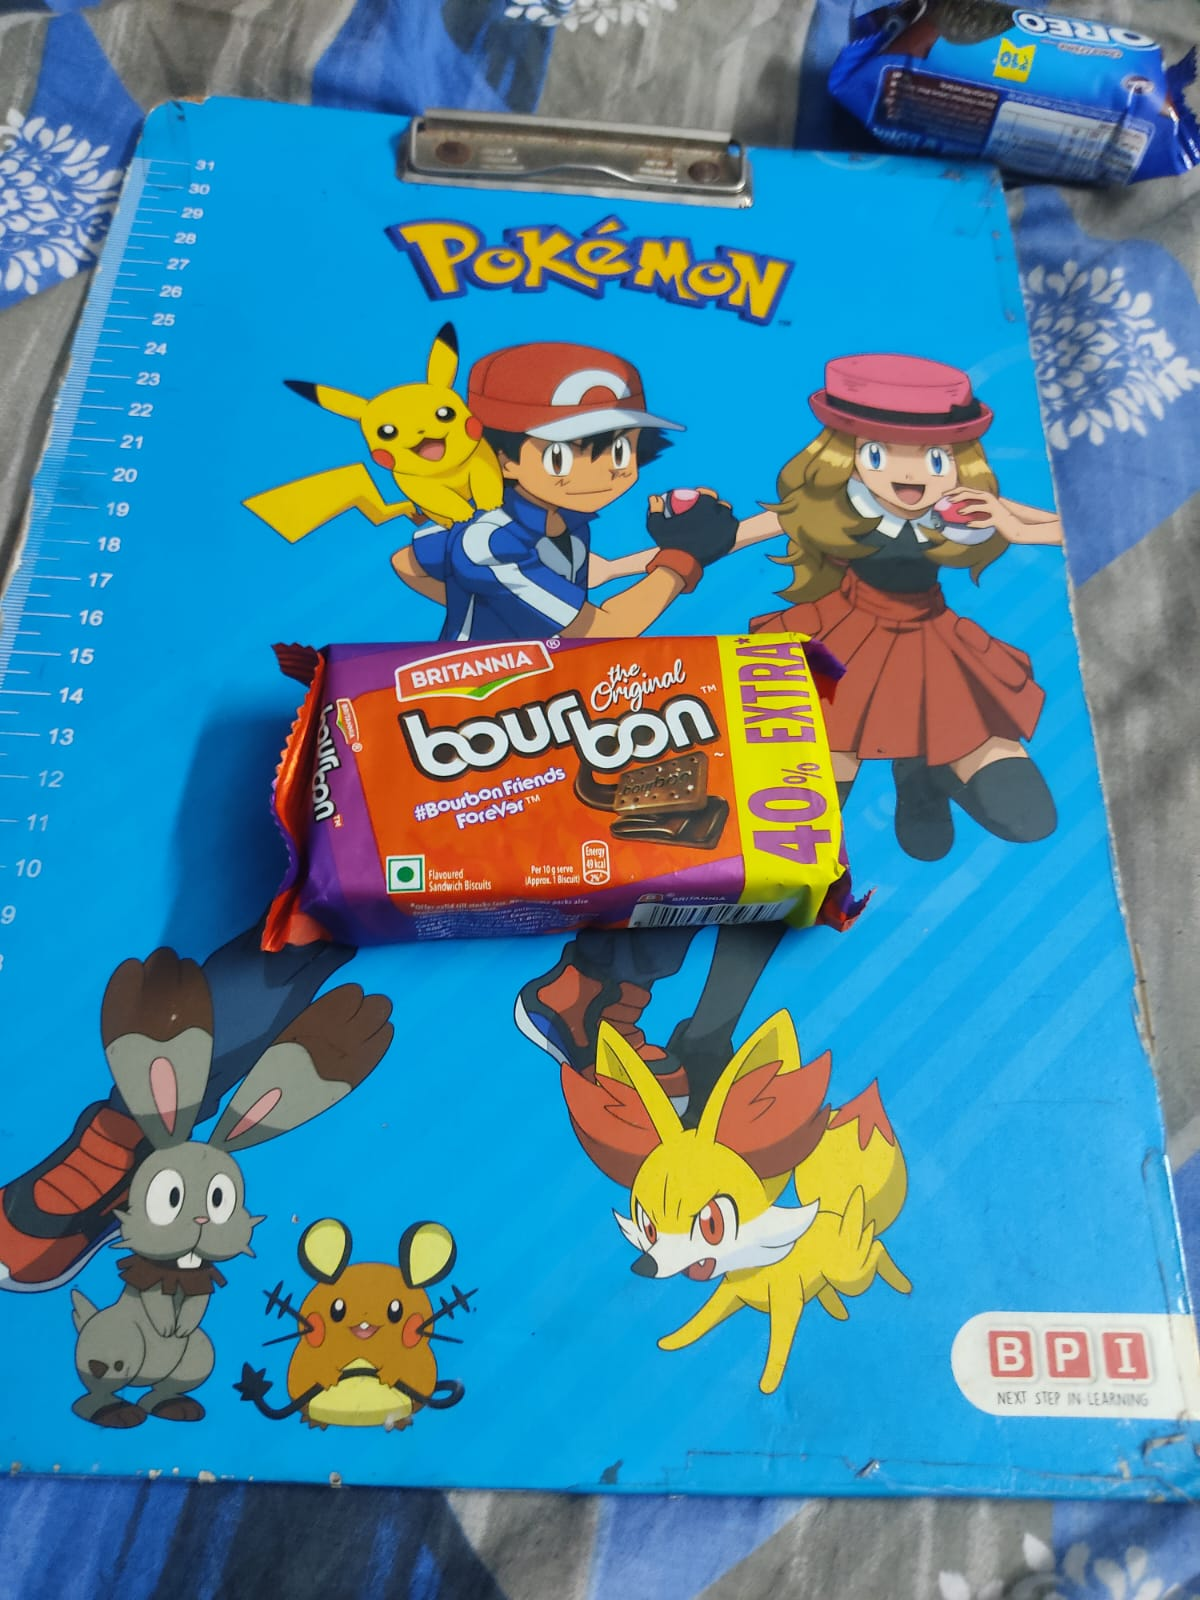010_Bourbon: (314, 629, 852, 951)
